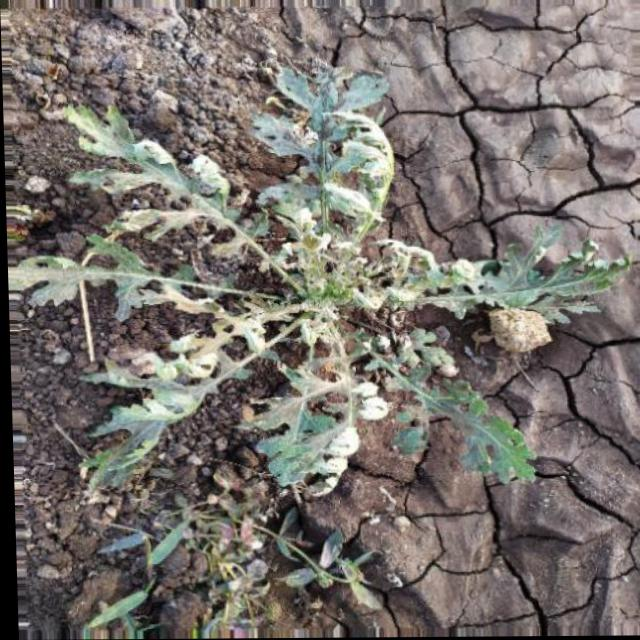weed: (31, 65, 611, 517)
